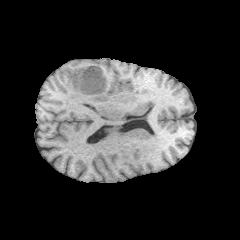glioma: (67, 65, 127, 104)
